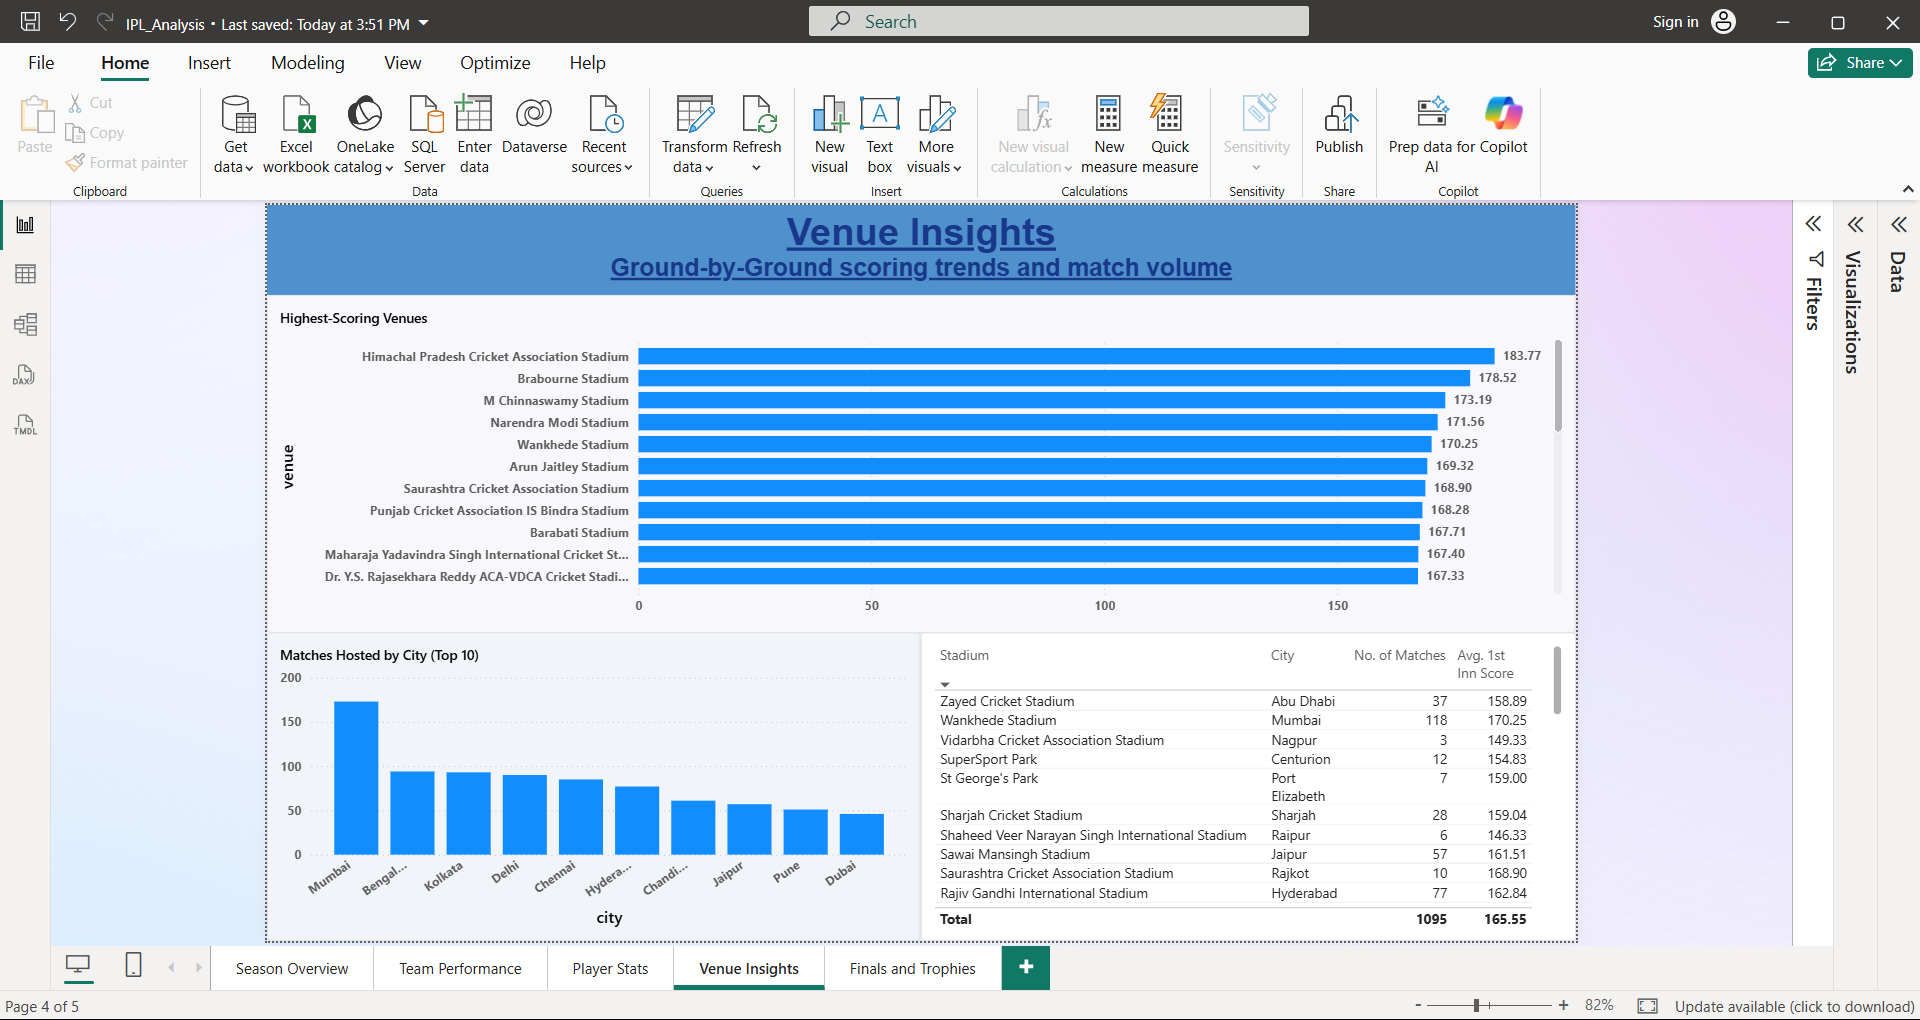

The dashboard page shown, as its layout file describes it:
{"tool":"powerbi","page":{"name":"Venue Insights","canvas":[1280,720],"ordinal":3},"visuals":[{"type":"clusteredBarChart","title":"Highest-Scoring Venues","fields":{"Category":["dim_matches.venue"],"Y":["Measure.Avg First Innings Score"]},"box":[0,88.2,1280.3,330.3],"z":0},{"type":"clusteredColumnChart","title":"Matches Hosted by City (Top 10)","fields":{"Category":["dim_matches.city"],"Y":["CountNonNull(dim_matches.match_id)"]},"box":[0,418.4,639.5,301.3],"z":1000},{"type":"tableEx","fields":{"Values":["dim_matches.venue","dim_matches.city","dim_matches.match_id","Measure.Avg First Innings Score"]},"box":[639.5,418.4,640.8,301.3],"z":2000},{"type":"textbox","box":[0,0,1280.3,88.2],"z":3000}]}

Visuals, with their boxes on the page's 1280x720 design canvas (x1, y1, x2, y2). These are canvas units, not pixel positions in the 1920x1020 screenshot, which may show the page scaled, cropped or inside an application window:
"Highest-Scoring Venues" clusteredBarChart: <box>0,88,1280,418</box>
"Matches Hosted by City (Top 10)" clusteredColumnChart: <box>0,418,640,720</box>
tableEx - dim_matches.venue x dim_matches.city: <box>640,418,1280,720</box>
textbox: <box>0,0,1280,88</box>
